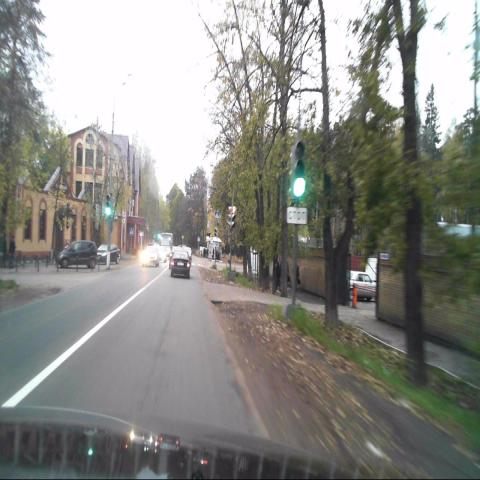6_16: (286, 205, 307, 225)
